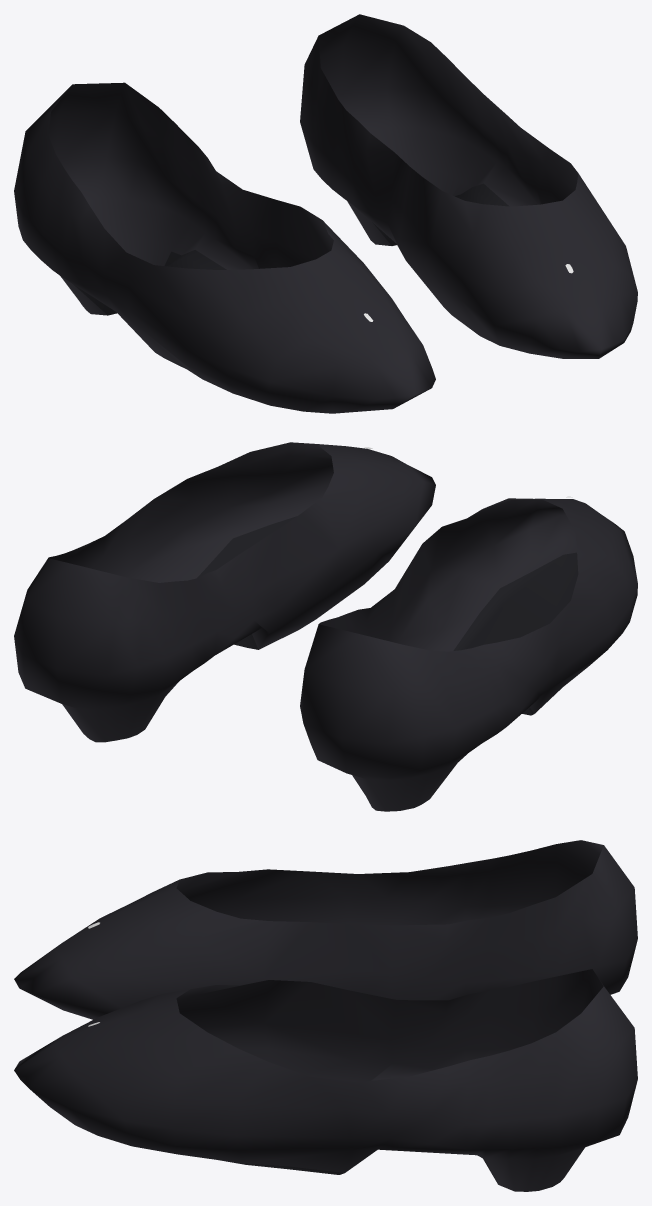
File: shoes 1.fbx
3 renders of one model, top to bottom at view 1: azimuth 30°, elevation 25°; view 2: azimuth 150°, elevation 25°; view 3: azimuth 270°, elevation 25°, orthographic.
Visible parts, largest first — view 1: カスタム少女_mesh; view 2: カスタム少女_mesh; view 3: カスタム少女_mesh.
Part boxes in pixels (bbox=[...]): カスタム少女_mesh: bbox=[14, 14, 637, 413]; カスタム少女_mesh: bbox=[14, 442, 637, 811]; カスタム少女_mesh: bbox=[14, 840, 637, 1191].
Size of the model in its own units: 323 by 133 by 389.
Materials: 2 (1 with a texture image).
